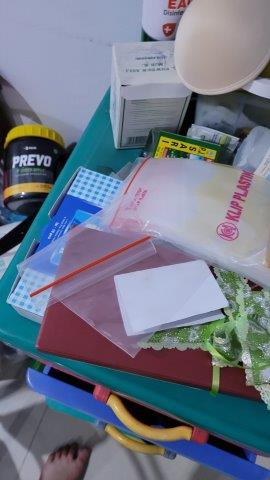plastik: (20, 211, 183, 335), (128, 164, 270, 272)
